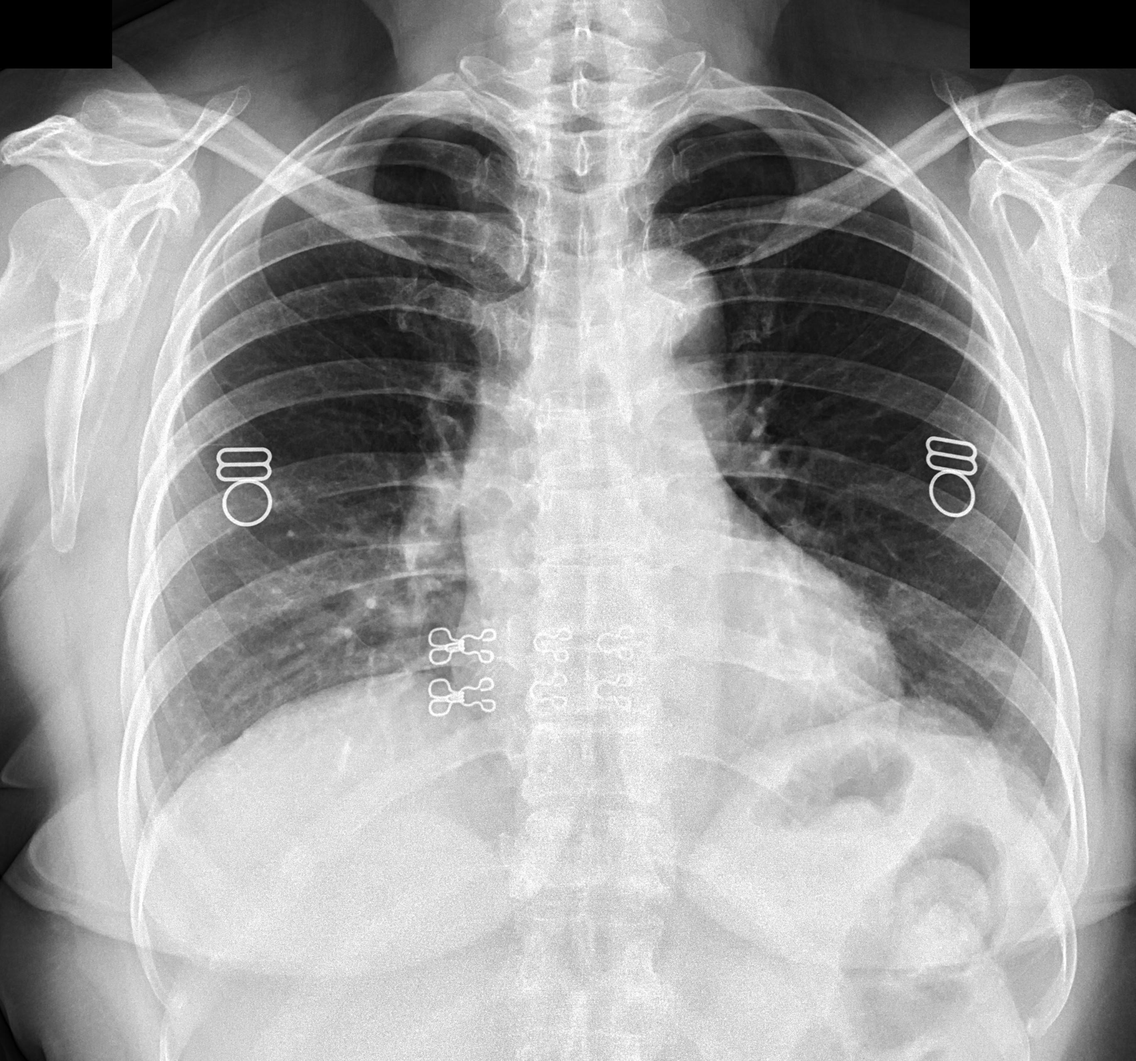Aortic enlargement: (582, 247, 726, 392)
